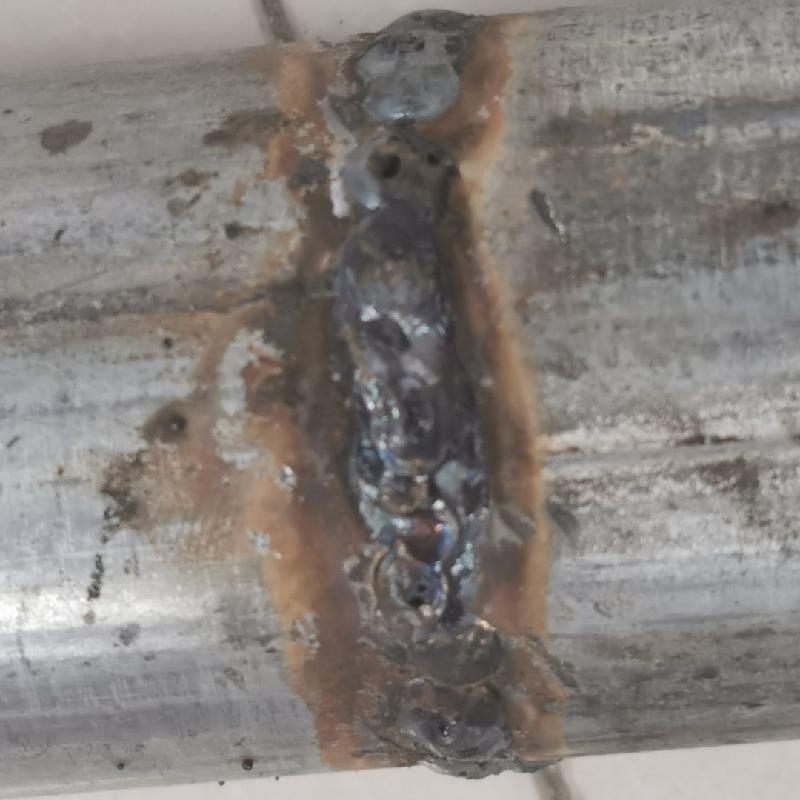Surface_pores: (403, 567, 443, 619), (365, 147, 413, 190)
crater: (333, 305, 508, 775)
wrong_size: (324, 202, 468, 304), (361, 15, 471, 125)
